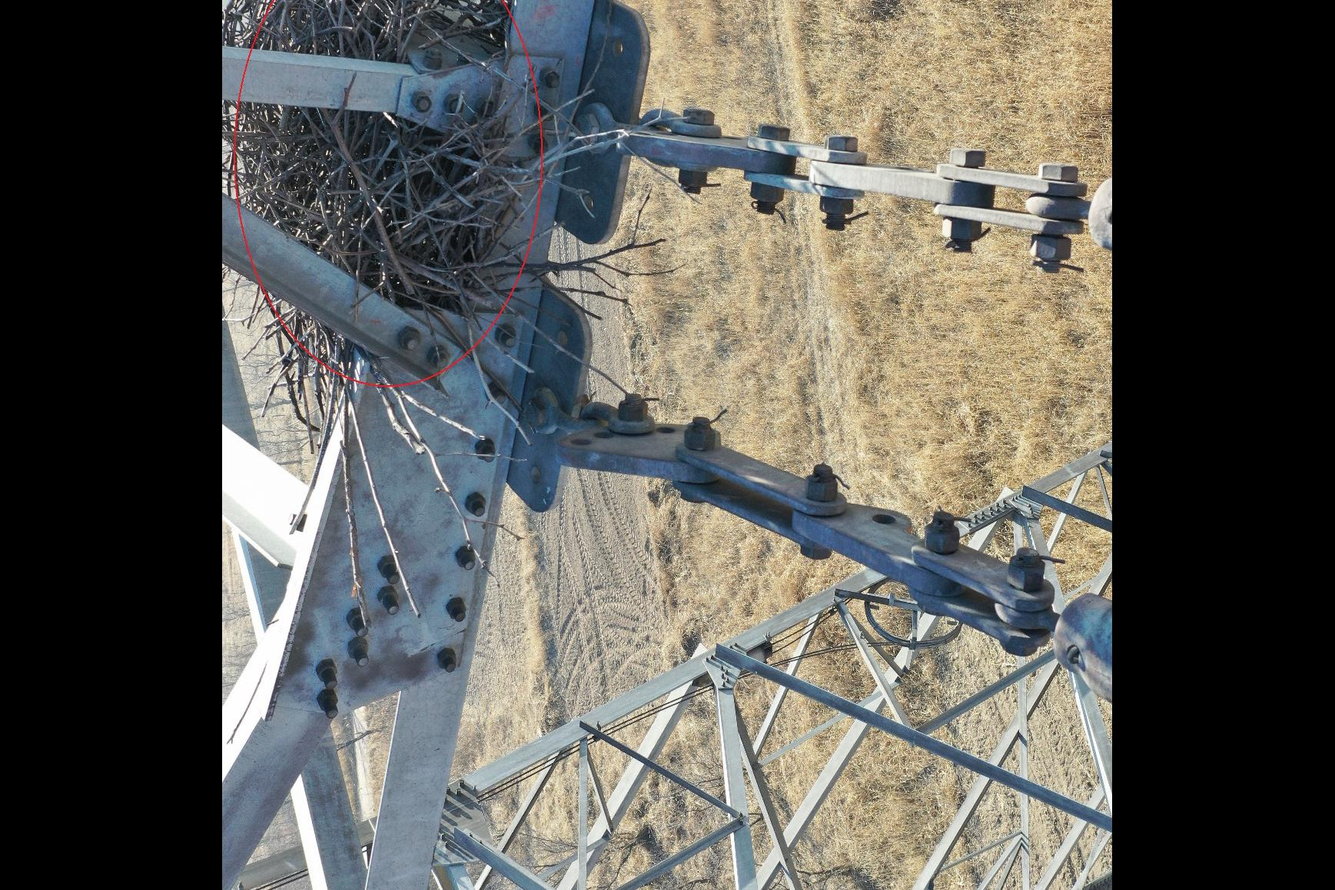nest: (219, 1, 517, 427)
